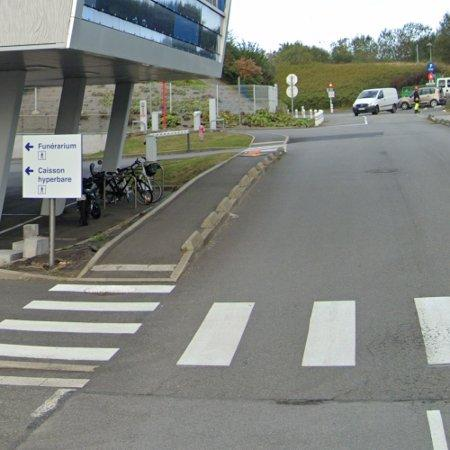crosswalks: (0, 284, 177, 387)
